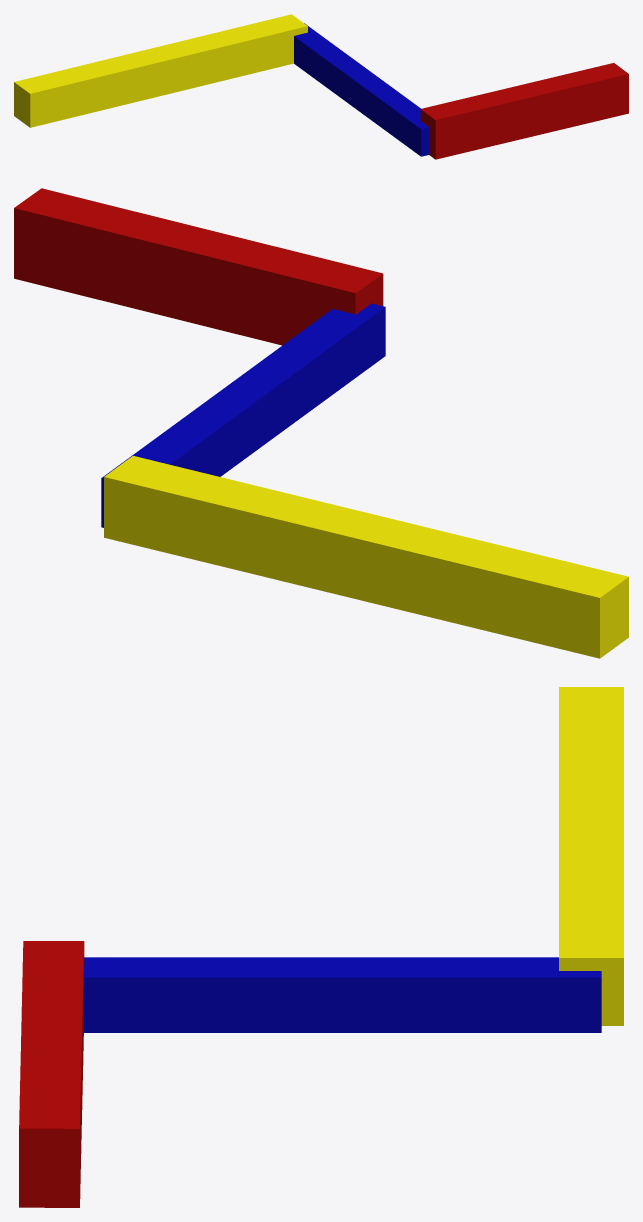
The model's file is BoneArm.FBX.
The picture shows the model from 3 angles, top to bottom: view 1: azimuth 30°, elevation 25°; view 2: azimuth 150°, elevation 25°; view 3: azimuth 270°, elevation 25°; orthographic projection. The views are drawn at different scales.
Visible parts, largest first — view 1: Box002, Box004, Box003; view 2: Box002, Box004, Box003; view 3: Box003, Box002, Box004.
Part boxes in pixels (x1,y1,x2,y2): Box002: [14, 14, 307, 127]; Box004: [420, 63, 628, 159]; Box003: [294, 23, 428, 156]; Box002: [104, 456, 628, 658]; Box004: [14, 188, 383, 345]; Box003: [101, 303, 385, 527]; Box003: [84, 957, 601, 1032]; Box002: [559, 687, 623, 1025]; Box004: [19, 941, 84, 1207].
Size of the model in its own units: 100 by 8.15 by 56.51.
